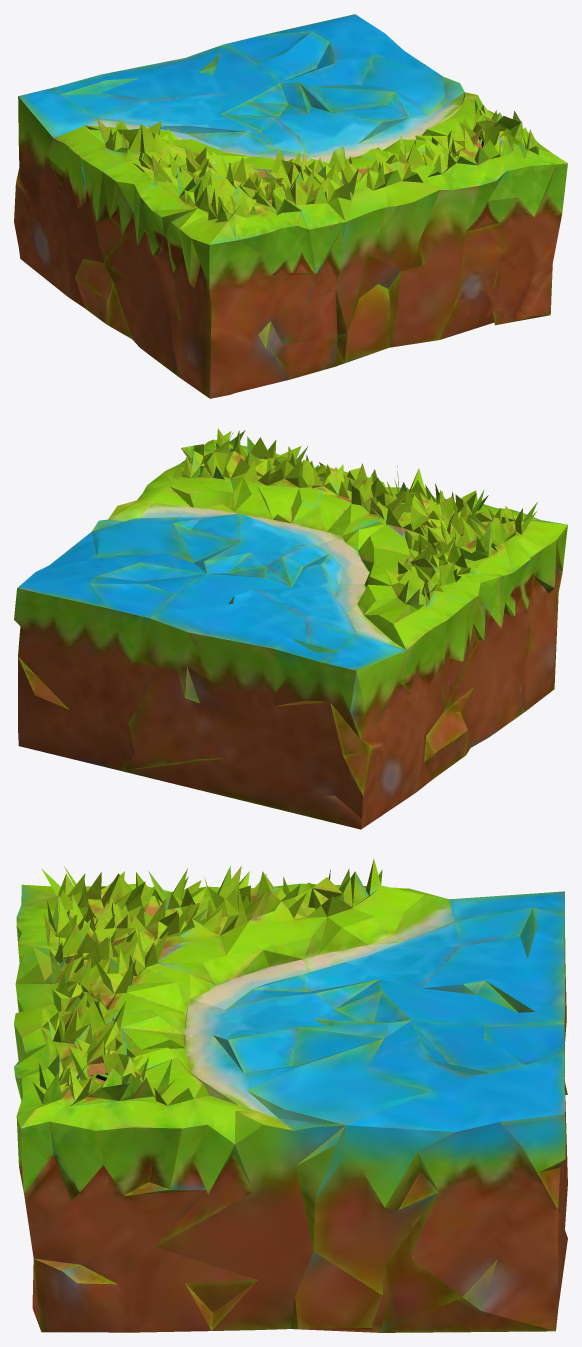
File: water-shore-corner.glb
3 renders of one model, top to bottom at view 1: azimuth 30°, elevation 25°; view 2: azimuth 150°, elevation 25°; view 3: azimuth 270°, elevation 25°, orthographic. The views are drawn at different scales.
Visible parts, largest first — view 1: output_unwrapped; view 2: output_unwrapped; view 3: output_unwrapped.
Part boxes in pixels (left/top/right/bottom): output_unwrapped: left=14, top=14, right=567, bottom=398; output_unwrapped: left=14, top=428, right=567, bottom=829; output_unwrapped: left=14, top=859, right=567, bottom=1332.
Size of the model in its own units: 1.9 by 0.9558 by 1.84.
1 material, 1 textured.
